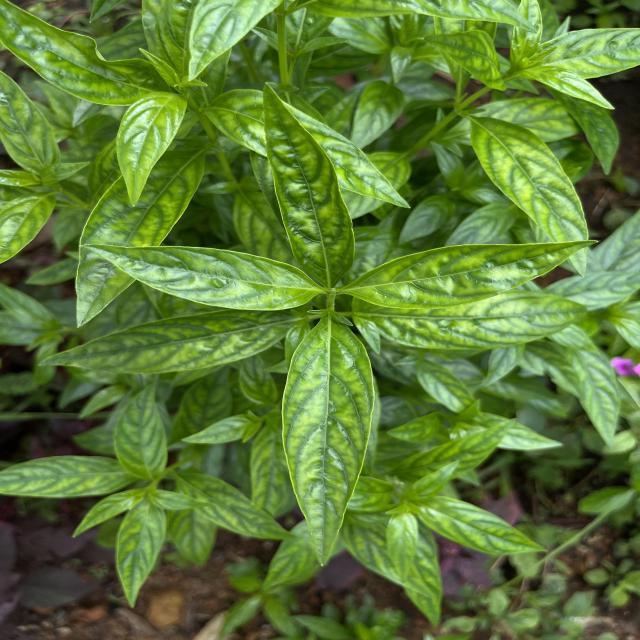Andrographis paniculata: (72, 143, 209, 328), (279, 316, 377, 569), (468, 113, 592, 279), (262, 82, 358, 288), (339, 238, 602, 312), (80, 240, 328, 314), (35, 307, 285, 375), (344, 290, 591, 353), (112, 89, 190, 210), (388, 416, 520, 484), (412, 494, 550, 556), (178, 471, 296, 541), (382, 517, 446, 628), (0, 70, 60, 172), (114, 498, 168, 608), (0, 454, 132, 498), (112, 380, 170, 480), (69, 487, 146, 539)
